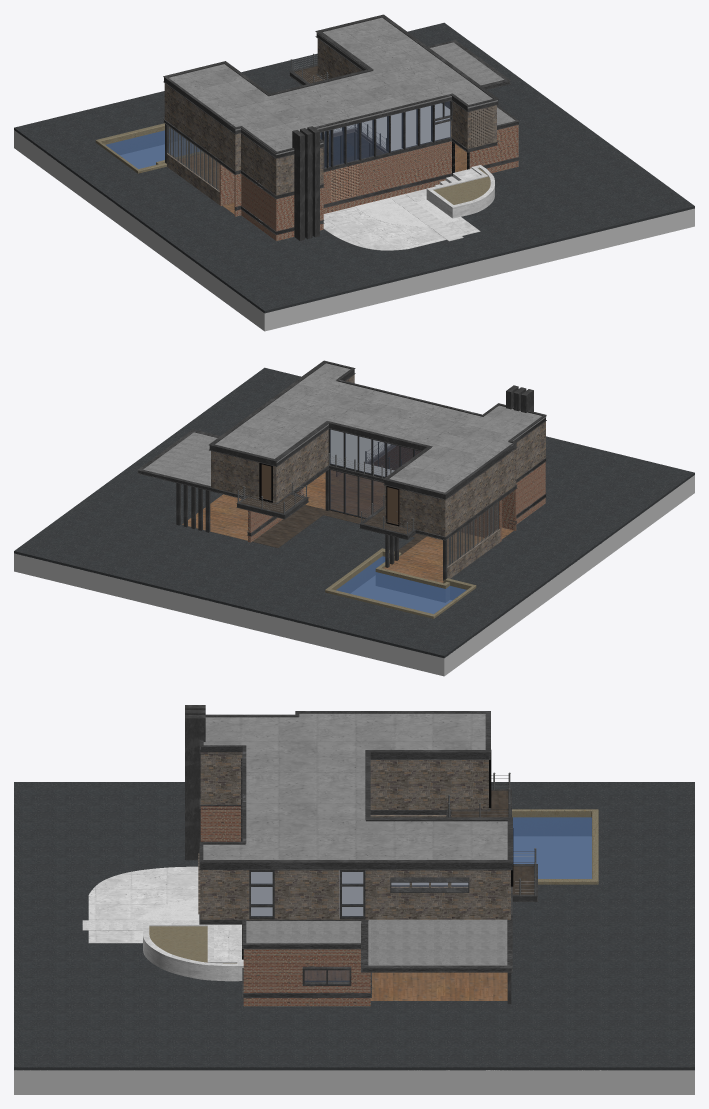
File: modern_luxury_villa_house_building_with_pool.glb
3 views of the same model, one above another, from view 1: azimuth 30°, elevation 25°; view 2: azimuth 150°, elevation 25°; view 3: azimuth 270°, elevation 25° (orthographic). The views are drawn at different scales.
Visible parts, largest first — view 1: Plane004, Line066, Plane005, Line001, Line071, Line006, Rectangle003, Line026, Line070, Line007, Line004, Line069 (+15 smaller); view 2: Plane004, Line066, Plane005, Line071, Line006, Line062, Line070, Line001, Line069, Rectangle002, Object005_Material #12_0, Line064 (+12 smaller); view 3: Plane004, Line066, Plane005, Line070, Object005_Material #12_0, Line006, Line071, Line001, Line026, Line069, Line004, Rectangle015 (+16 smaller).
Boxes of the visible parts, x1=… form: Plane004: x1=14, y1=22, x2=694, y2=313; Line066: x1=169, y1=17, x2=497, y2=155; Plane005: x1=14, y1=130, x2=694, y2=331; Line001: x1=219, y1=125, x2=518, y2=240; Line071: x1=164, y1=83, x2=323, y2=195; Line006: x1=163, y1=14, x2=498, y2=158; Rectangle003: x1=320, y1=101, x2=450, y2=167; Line026: x1=323, y1=206, x2=480, y2=250; Line070: x1=317, y1=39, x2=496, y2=148; Line007: x1=320, y1=103, x2=450, y2=150; Line004: x1=163, y1=40, x2=519, y2=199; Line069: x1=106, y1=129, x2=201, y2=168; Plane004: x1=14, y1=367, x2=694, y2=658; Line066: x1=215, y1=363, x2=546, y2=492; Plane005: x1=14, y1=475, x2=694, y2=676; Line071: x1=384, y1=421, x2=545, y2=536; Line006: x1=209, y1=360, x2=546, y2=500; Line062: x1=303, y1=470, x2=513, y2=582; Line070: x1=211, y1=375, x2=354, y2=503; Line001: x1=248, y1=446, x2=545, y2=542; Line069: x1=336, y1=556, x2=466, y2=613; Rectangle002: x1=330, y1=429, x2=420, y2=476; Object005_Material #12_0: x1=143, y1=432, x2=217, y2=485; Line064: x1=325, y1=548, x2=476, y2=618; Plane004: x1=14, y1=782, x2=694, y2=1070; Line066: x1=200, y1=713, x2=507, y2=859; Plane005: x1=14, y1=1070, x2=694, y2=1094; Line070: x1=200, y1=870, x2=510, y2=919; Object005_Material #12_0: x1=246, y1=919, x2=507, y2=965; Line006: x1=199, y1=711, x2=512, y2=870; Line071: x1=200, y1=752, x2=488, y2=809; Line001: x1=200, y1=806, x2=370, y2=1006; Line026: x1=88, y1=866, x2=198, y2=943; Line069: x1=513, y1=817, x2=591, y2=878; Line004: x1=199, y1=798, x2=512, y2=972; Rectangle015: x1=370, y1=972, x2=507, y2=1000.
Size of the model in its own units: 35.1 by 9.73 by 35.4.
Materials: 19 (13 with a texture image).
